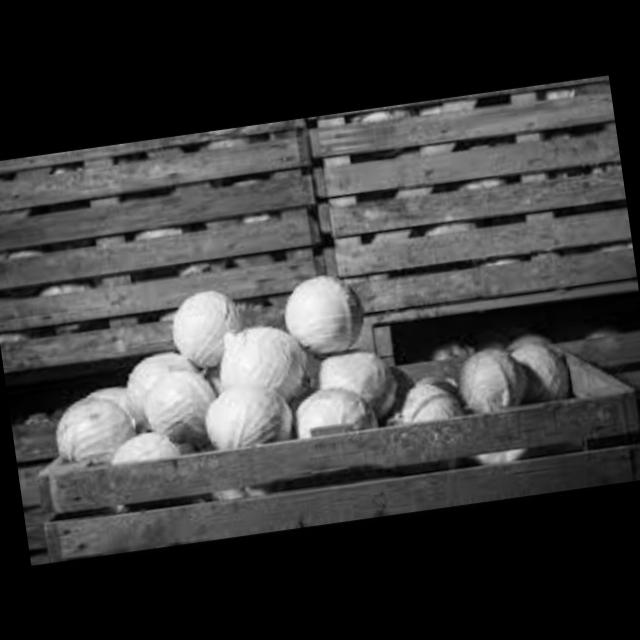cai bap: (106, 324, 232, 438), (271, 256, 376, 358), (59, 368, 158, 461), (215, 312, 312, 406), (207, 373, 316, 452), (164, 292, 268, 369), (324, 336, 416, 418), (500, 318, 572, 412), (444, 337, 522, 415), (396, 356, 481, 425)
